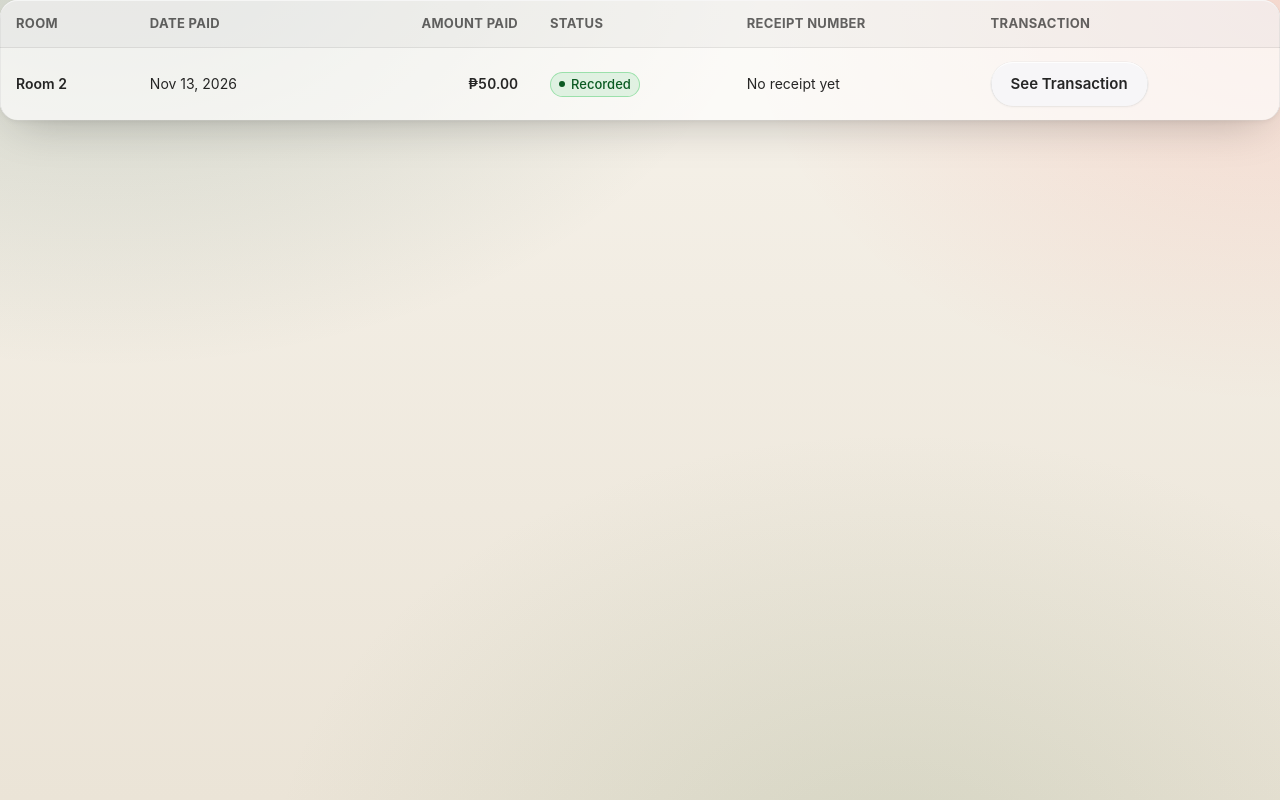
Test case: Payment History transaction dialog › shows the actual allocated amount for a partial payment
The width and height of the screenshot is (1280, 800).
Click the button "See Transaction" at (1069, 84), box [990,62,1148,106]
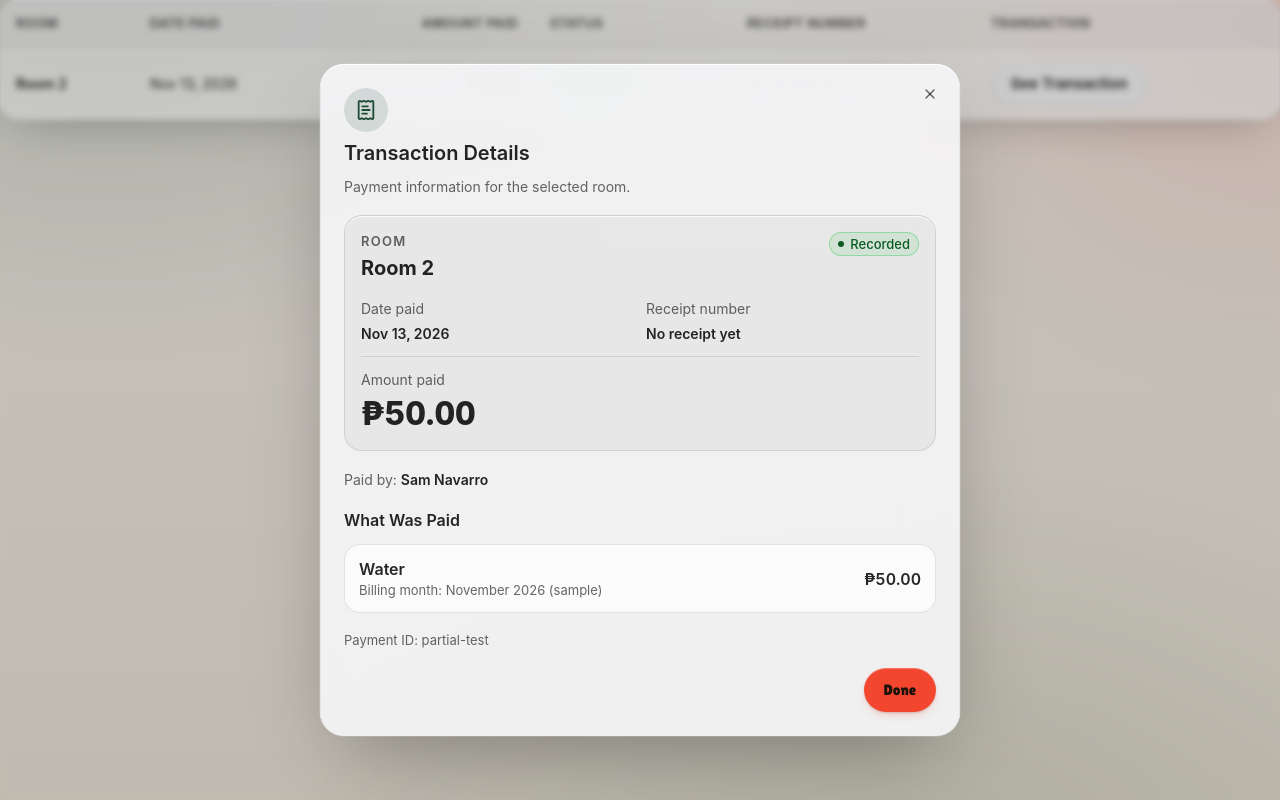
Expected: the dialog "Transaction Details" does not show "Unallocated", [320,64,960,736]
Result: the dialog "Transaction Details" shows "Water" at [359,559,405,579]
Result: the dialog "Transaction Details" shows "No receipt yet" at [646,325,741,342]
